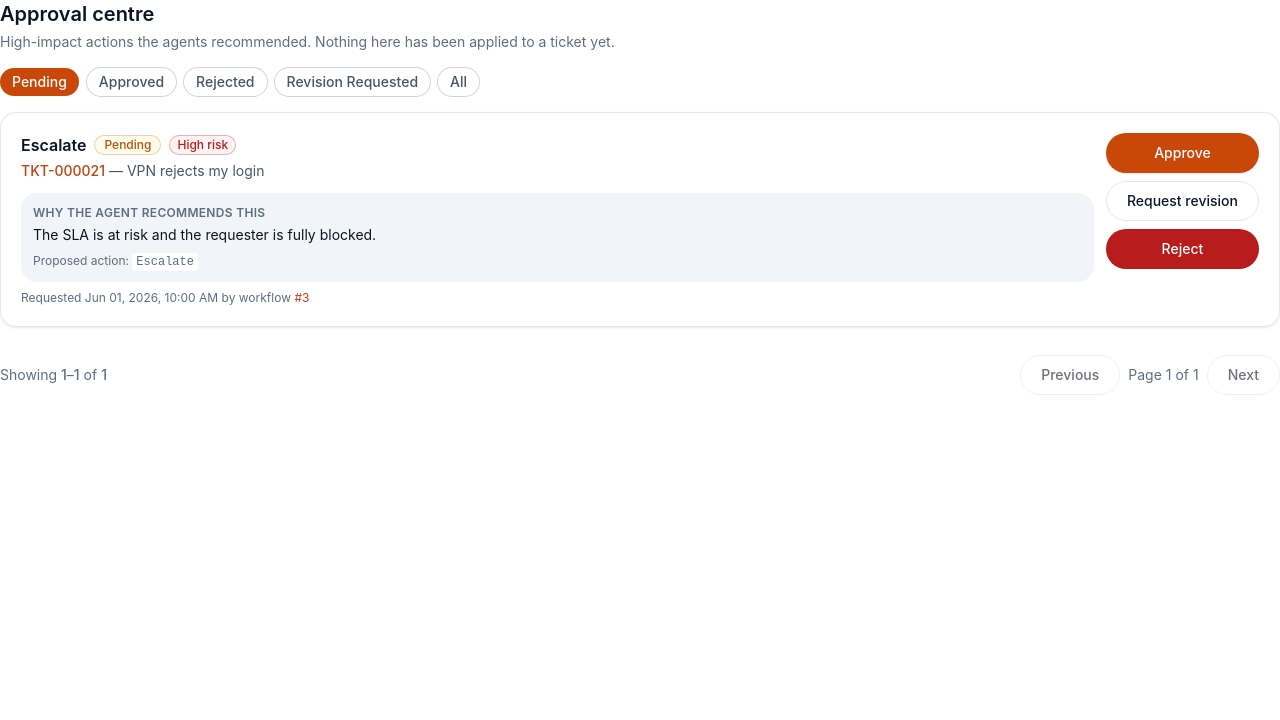
it: ApprovalCenter › tells the user plainly that rejecting changes nothing
Expected: the link "TKT-000021" is shown, x1=21 y1=162 x2=105 y2=179
Click the button "Reject": (1182, 249) x1=1106 y1=229 x2=1259 y2=269
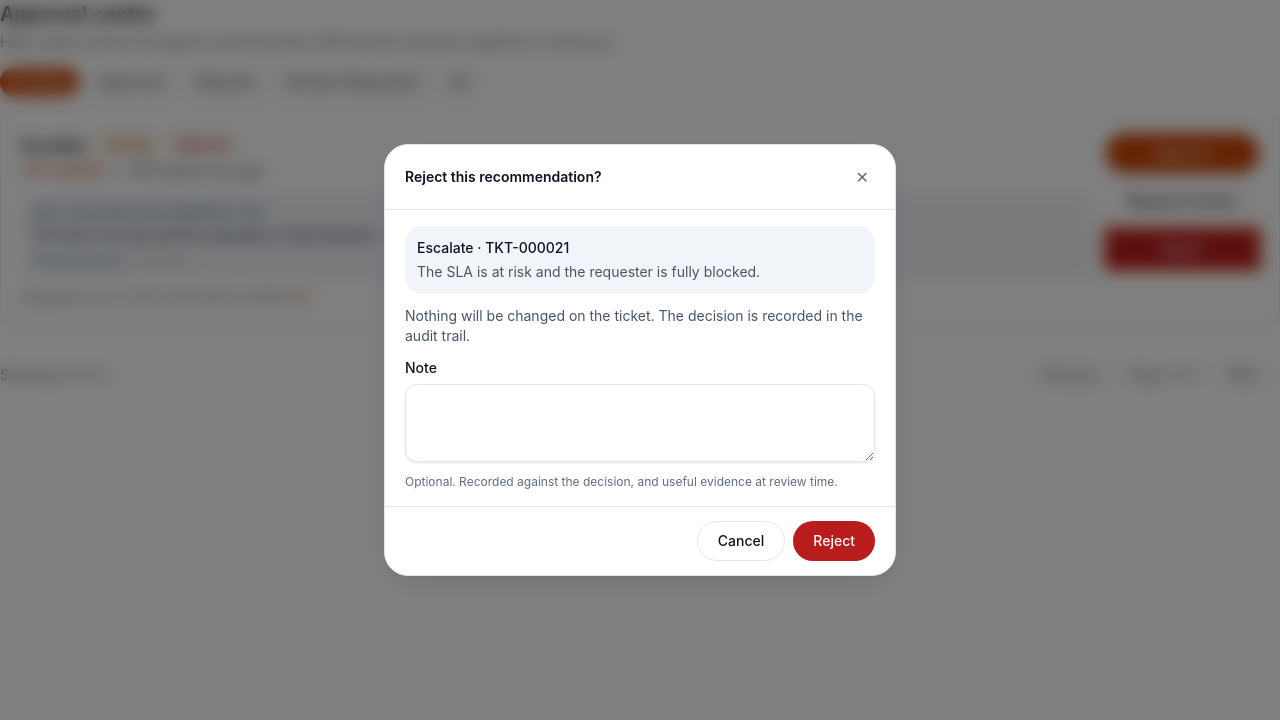
Now the dialog shows "nothing will be changed on the ticket", box x1=405 y1=307 x2=863 y2=344
